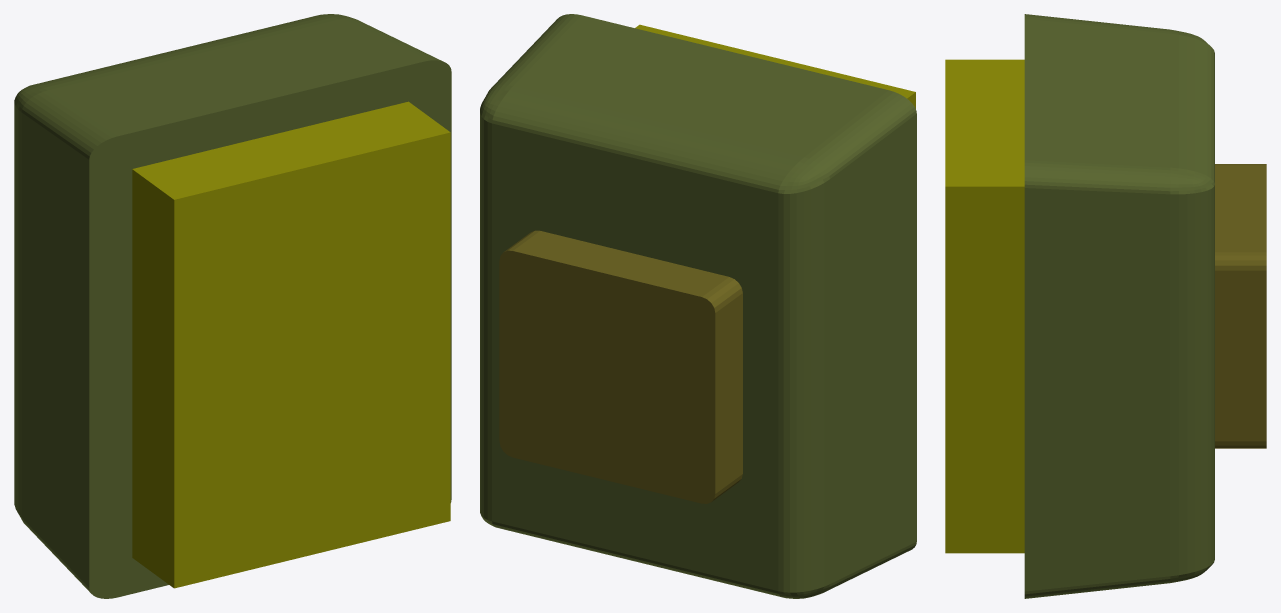
The model's file is tank-turret.fbx.
The picture shows the model from 3 angles, left to right: view 1: azimuth 30°, elevation 25°; view 2: azimuth 150°, elevation 25°; view 3: azimuth 270°, elevation 25°; orthographic projection. The views are drawn at different scales.
Parts seen in each view (by area): view 1: Cube.005; view 2: Cube.005; view 3: Cube.005.
Boxes of the visible parts, x1,y1,x2,y2 form: Cube.005: [14, 14, 451, 598]; Cube.005: [480, 14, 916, 598]; Cube.005: [945, 14, 1266, 598].
Bounding box in the file's own units: 128 × 155 × 104.
